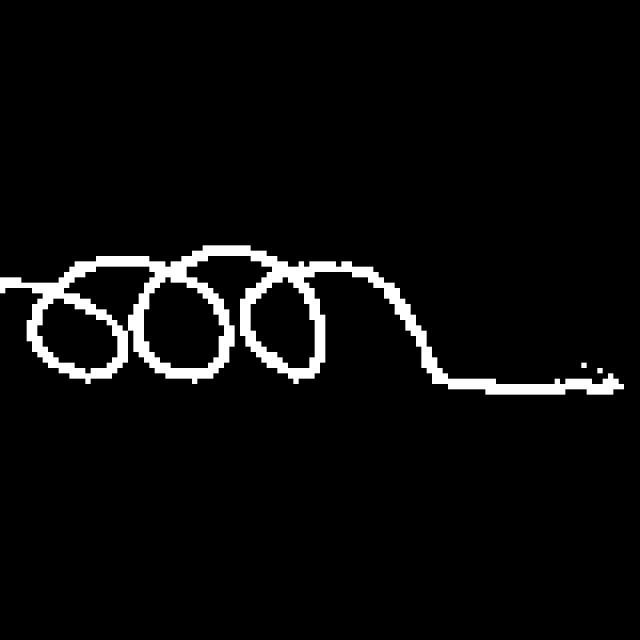inductor: (16, 227, 431, 453)
